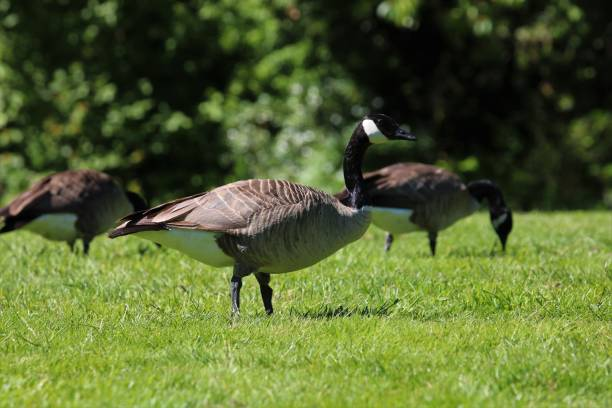goose: (105, 113, 419, 322), (333, 158, 514, 259), (1, 166, 151, 257)
